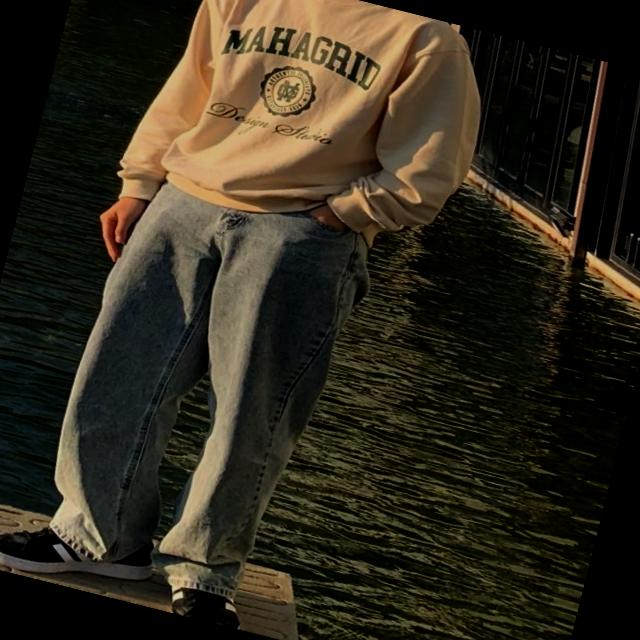denimpants: (26, 168, 378, 639)
mtm: (112, 0, 501, 277)
